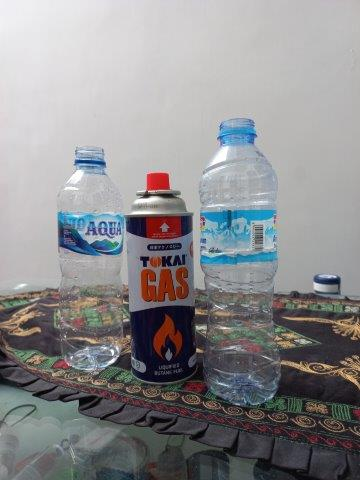botolplastik: (199, 119, 281, 405), (58, 146, 124, 368)
